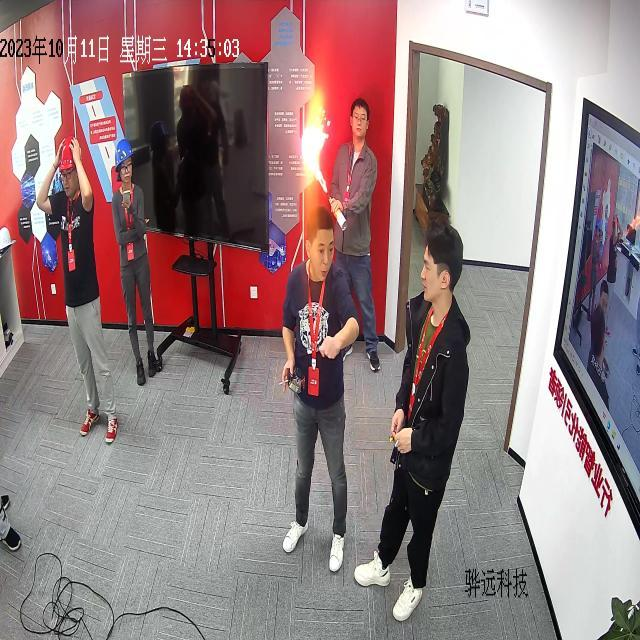Fire: (304, 123, 328, 193)
